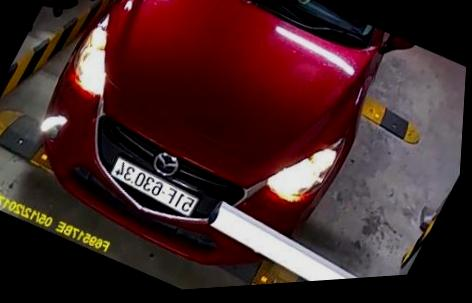License_Plate: (93, 150, 211, 223)
